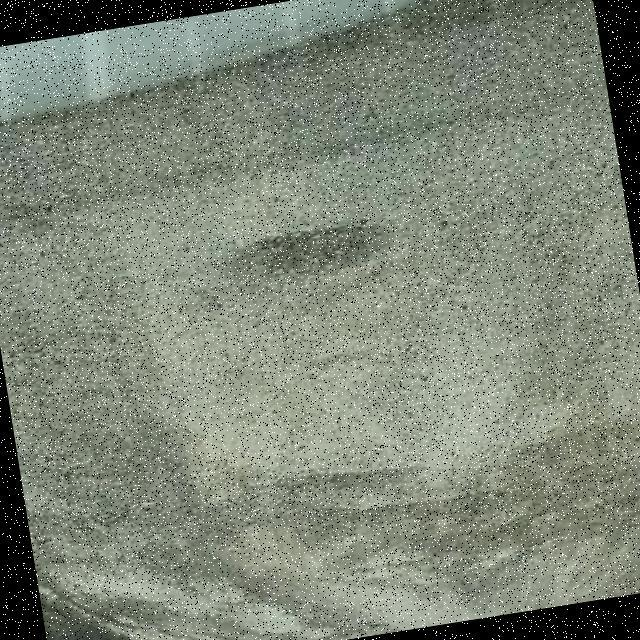Pothole: (237, 225, 388, 277)
